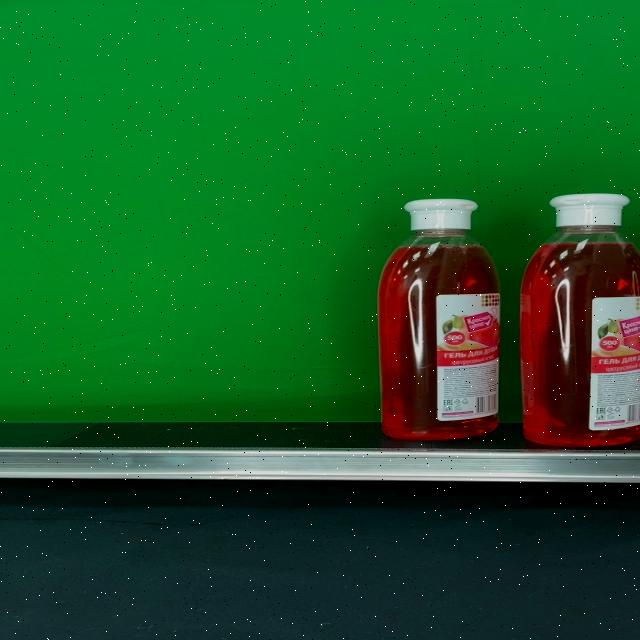Bottle: (522, 193, 640, 448), (380, 200, 500, 440)
Cap: (551, 194, 630, 227), (405, 199, 480, 229)
